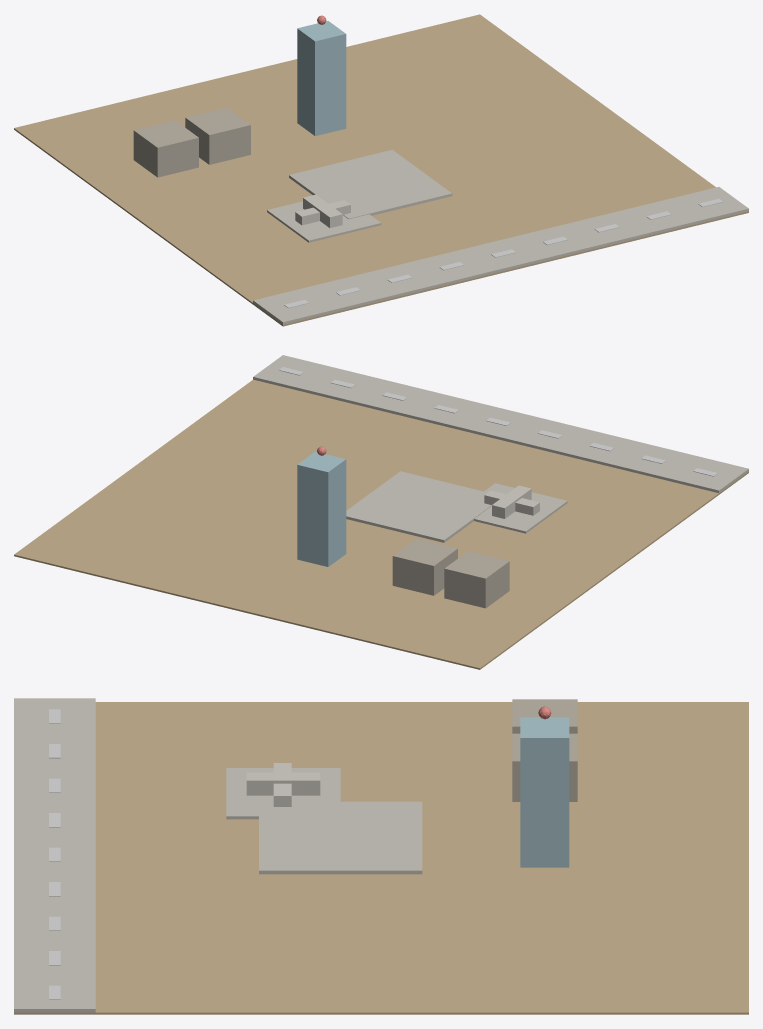
File: stage_05.glb
The picture shows the model from 3 angles, top to bottom: view 1: azimuth 30°, elevation 25°; view 2: azimuth 150°, elevation 25°; view 3: azimuth 270°, elevation 25°; orthographic projection. The views are drawn at different scales.
Parts seen in each view (by area): view 1: geometry_0; view 2: geometry_0; view 3: geometry_0.
Boxes of the visible parts, left/top/right/bottom form: geometry_0: left=14, top=14, right=748, bottom=326; geometry_0: left=14, top=355, right=748, bottom=669; geometry_0: left=14, top=698, right=748, bottom=1014.
Bounding box in the file's own units: 9 × 2.06 × 9.
